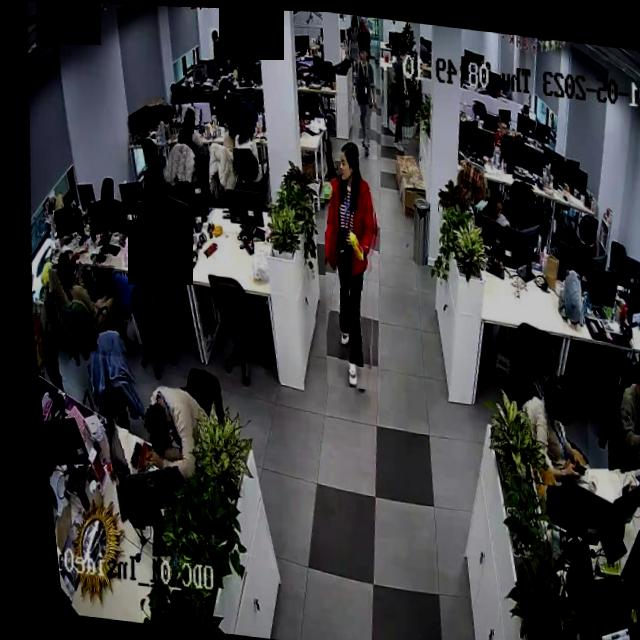person: (299, 136, 393, 390), (92, 378, 209, 499), (502, 365, 588, 485), (37, 247, 123, 357), (589, 351, 640, 475), (340, 44, 382, 157), (156, 101, 206, 188), (383, 45, 415, 143), (224, 105, 260, 175), (467, 182, 508, 223), (205, 25, 231, 72), (488, 111, 510, 149)
